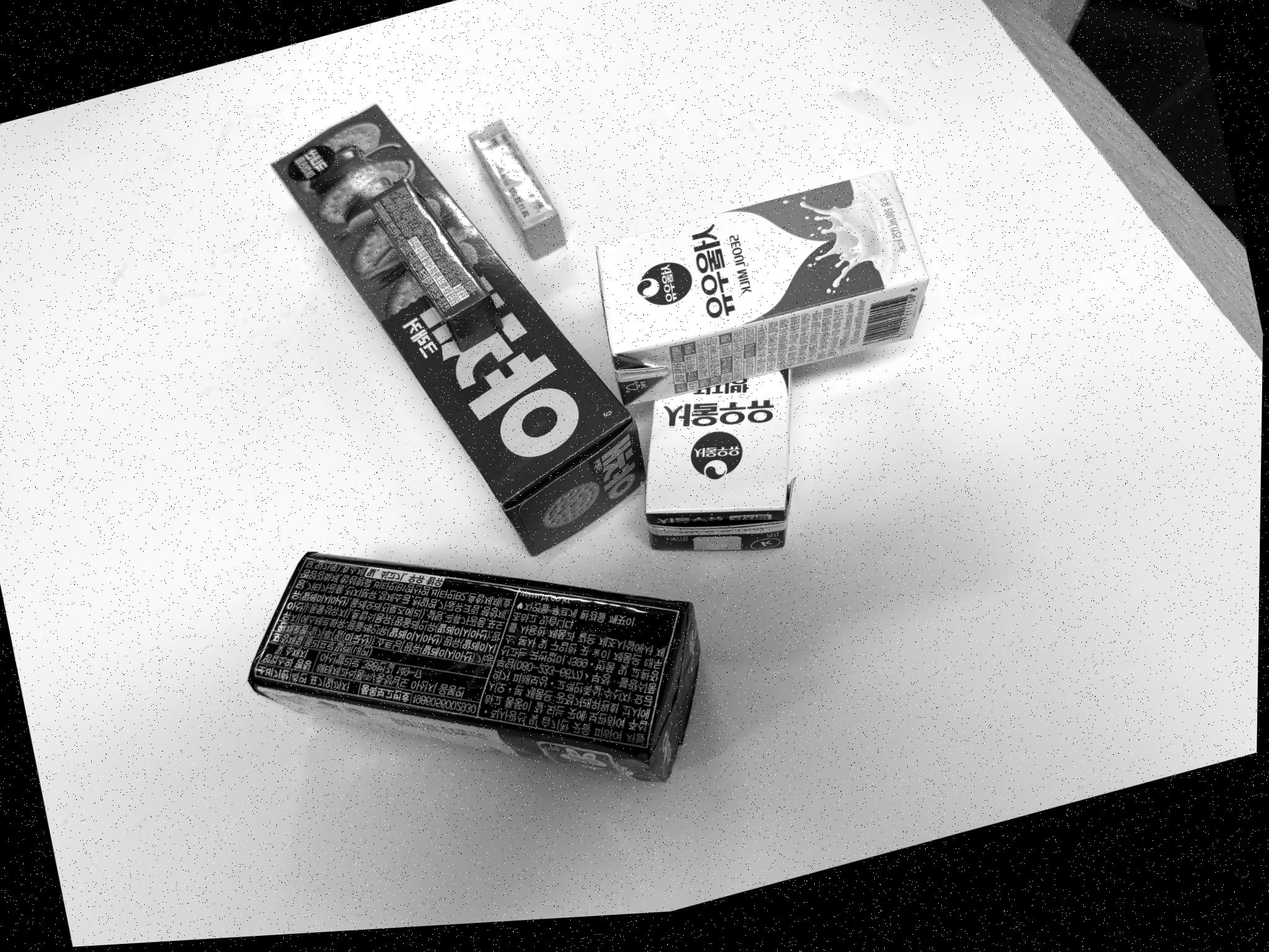cracker_ace: (249, 551, 700, 782)
cracker_vege: (273, 106, 644, 554)
gum_green: (362, 181, 500, 348)
gum_yellow: (469, 120, 566, 259)
milk_blue: (645, 369, 794, 550)
milk_green: (597, 171, 928, 402)
